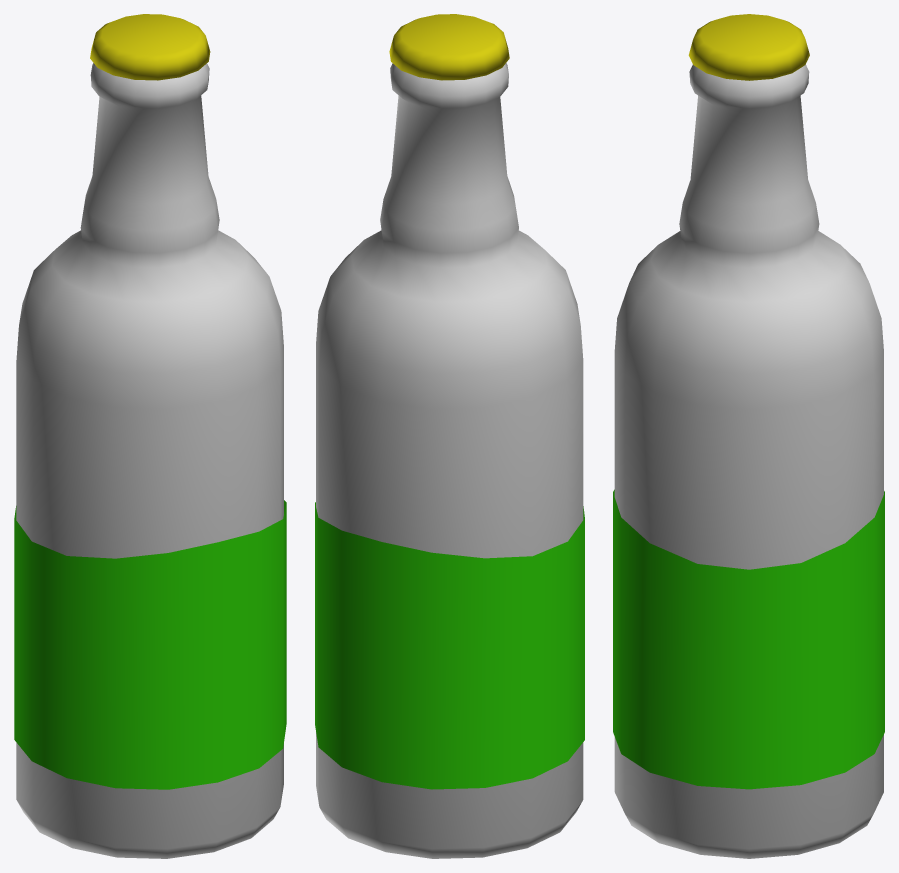
File: BHP_MOD_BOT_Cider.fbx
3 renders of one model, left to right at view 1: azimuth 30°, elevation 25°; view 2: azimuth 150°, elevation 25°; view 3: azimuth 270°, elevation 25°, orthographic.
Parts seen in each view (by area): view 1: BHP_MOD_Bottle_Cider; view 2: BHP_MOD_Bottle_Cider; view 3: BHP_MOD_Bottle_Cider.
Boxes of the visible parts, x1,y1,x2,y2 form: BHP_MOD_Bottle_Cider: [14, 14, 286, 858]; BHP_MOD_Bottle_Cider: [315, 14, 584, 858]; BHP_MOD_Bottle_Cider: [613, 14, 884, 858].
Bounding box in the file's own units: 0.0857 × 0.2675 × 0.0856.
